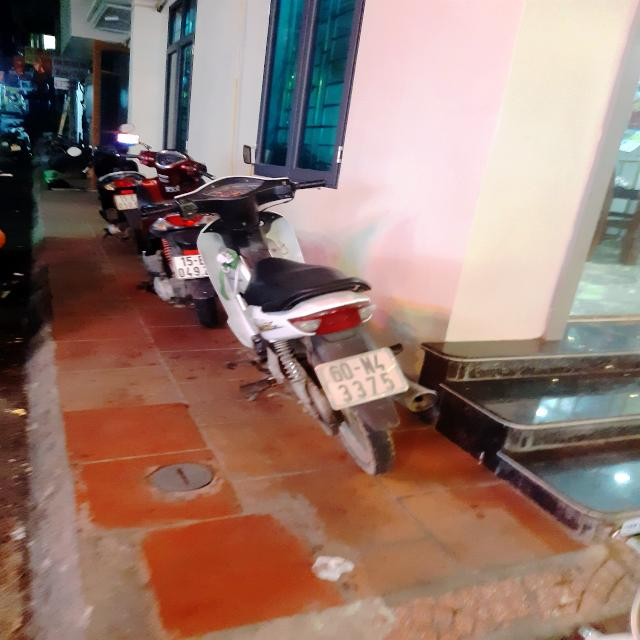license_plate: (306, 341, 416, 415)
